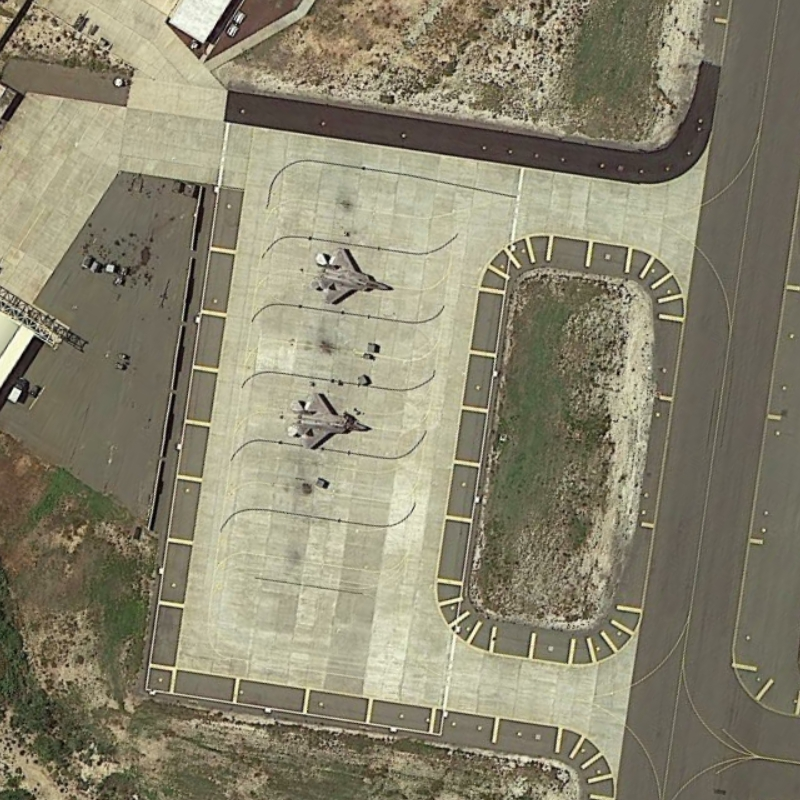A15: (281, 388, 374, 457), (304, 242, 395, 310)
